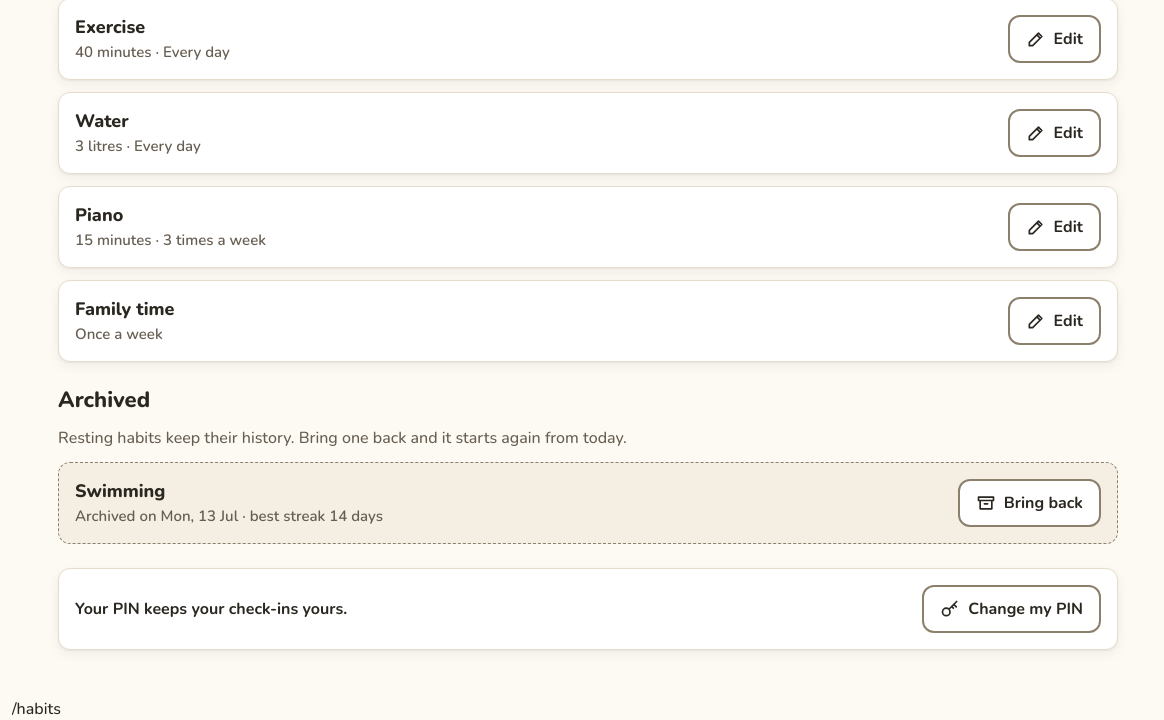
Test: REQ-009 edit, archive and bring back from My habits › Bring back at 20 active habits explains the limit
(page scrolled)
Step 1. Click the button named "Bring back Swimming" → point(1029, 503), box [958,479,1101,527]
(page scrolled)
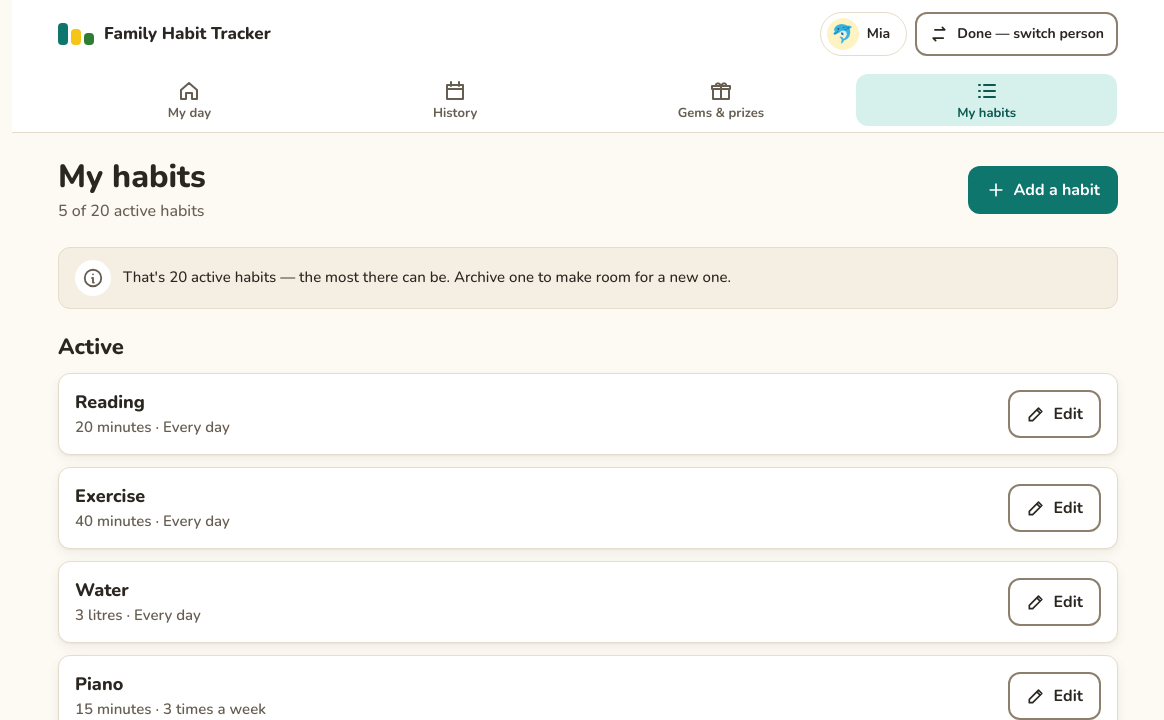
Expected: the text "That's 20 active habits — the most there can be" is shown, [123,267,731,287]
